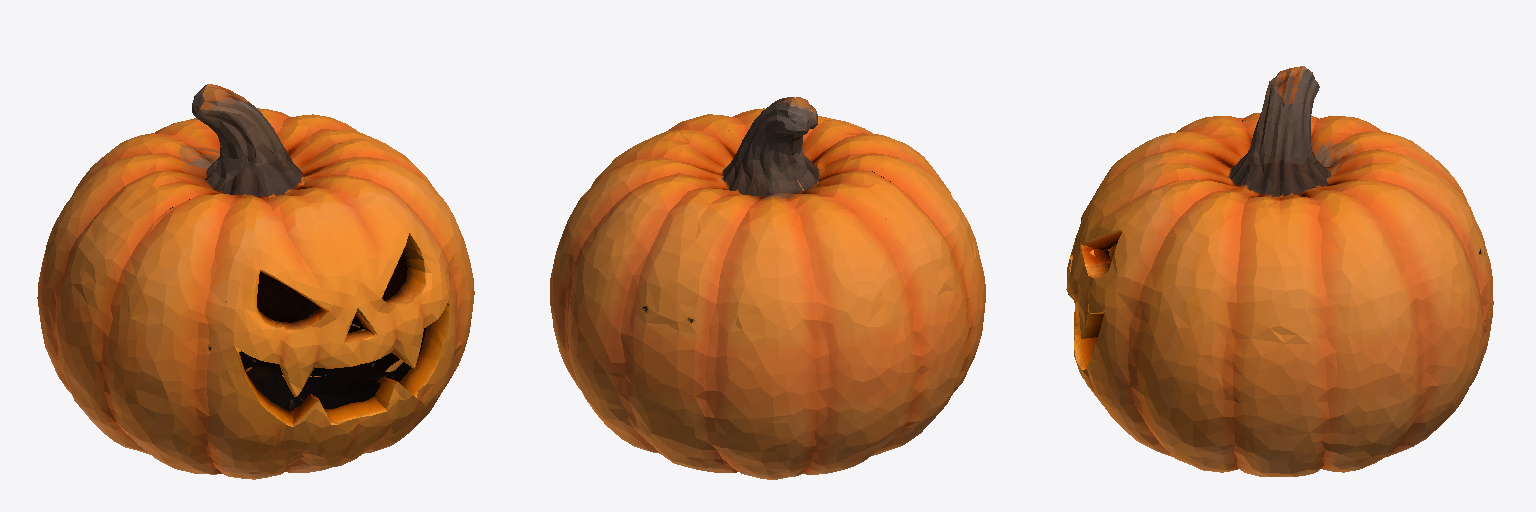
3 renders of one model, left to right at view 1: azimuth 30°, elevation 25°; view 2: azimuth 150°, elevation 25°; view 3: azimuth 270°, elevation 25°, orthographic.
Visible parts, largest first — view 1: Jack_o_Lantern_Grin_[number redacted]_texture; view 2: Jack_o_Lantern_Grin_[number redacted]_texture; view 3: Jack_o_Lantern_Grin_[number redacted]_texture.
Part boxes in pixels (left/top/right/bottom): Jack_o_Lantern_Grin_[number redacted]_texture: left=37, top=84, right=474, bottom=479; Jack_o_Lantern_Grin_[number redacted]_texture: left=550, top=97, right=985, bottom=479; Jack_o_Lantern_Grin_[number redacted]_texture: left=1066, top=66, right=1493, bottom=476.
Size of the model in its own units: 1.92 by 1.71 by 1.92.
1 materials, 1 textured.